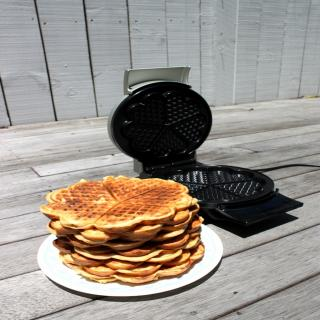Pancake: (40, 176, 209, 284)
